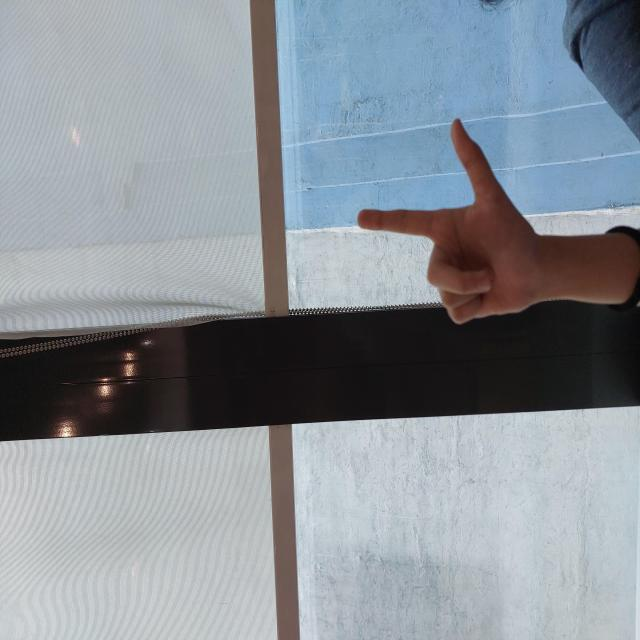L: (316, 355, 521, 535)
